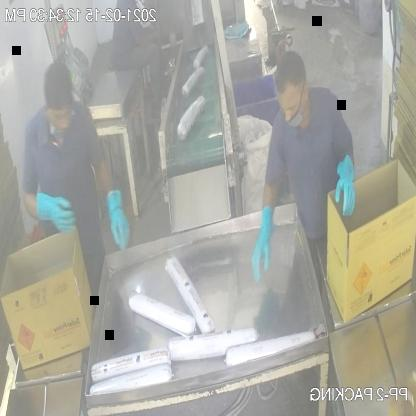glove: (21, 184, 82, 241), (98, 179, 139, 261), (327, 142, 363, 226), (251, 186, 276, 292)
